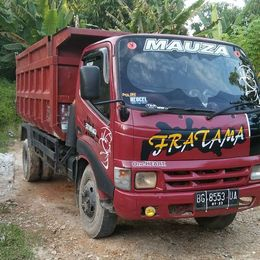plate: (196, 189, 240, 206)
